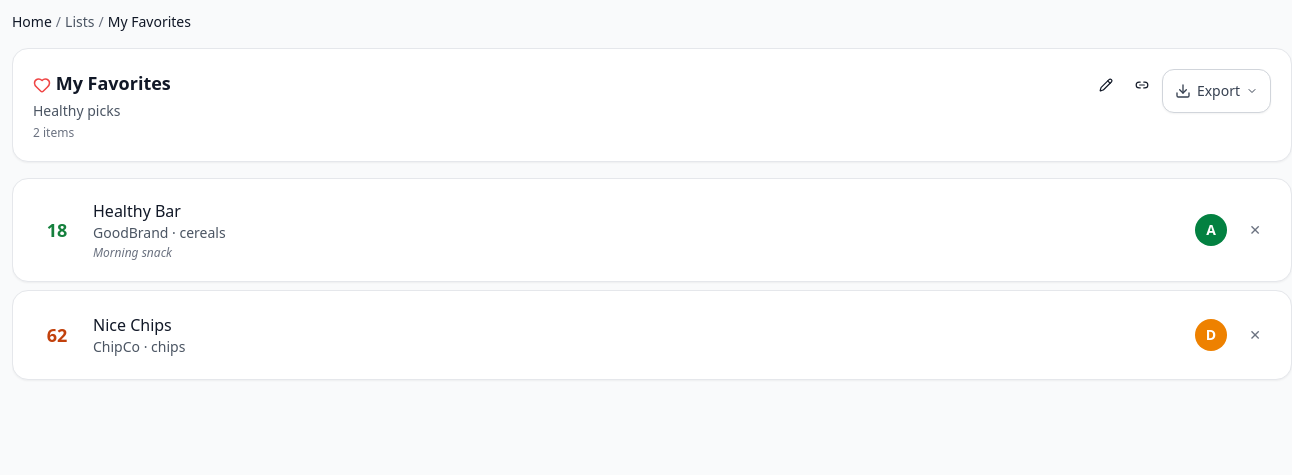
Test: ListDetailPage › enters edit mode when clicking edit button
The width and height of the screenshot is (1292, 475).
Click the button titled "Edit list": (1106, 85) [1090,69,1122,101]
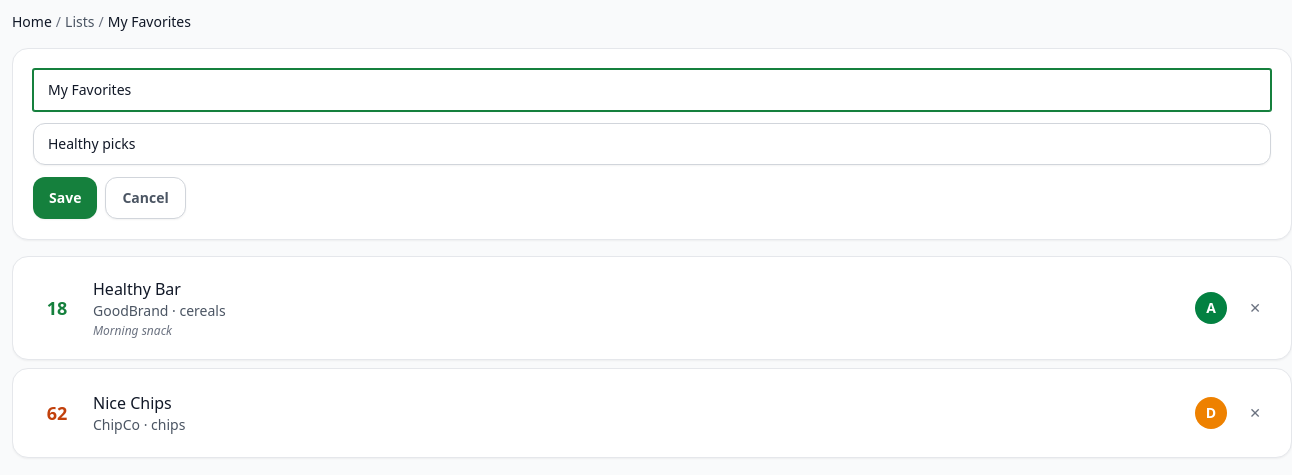
Expected: the 1st field showing "My Favorites" is shown, [33,69,1271,111]
Expected: the 2nd field showing "Healthy picks" is shown, [33,123,1271,165]
